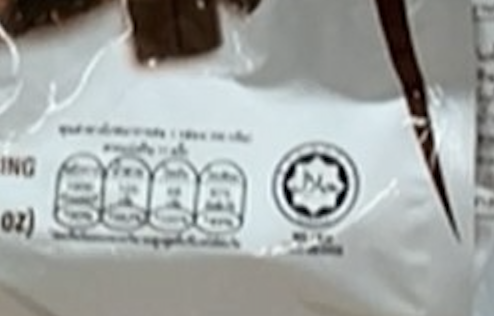halal: (287, 165, 346, 205)
